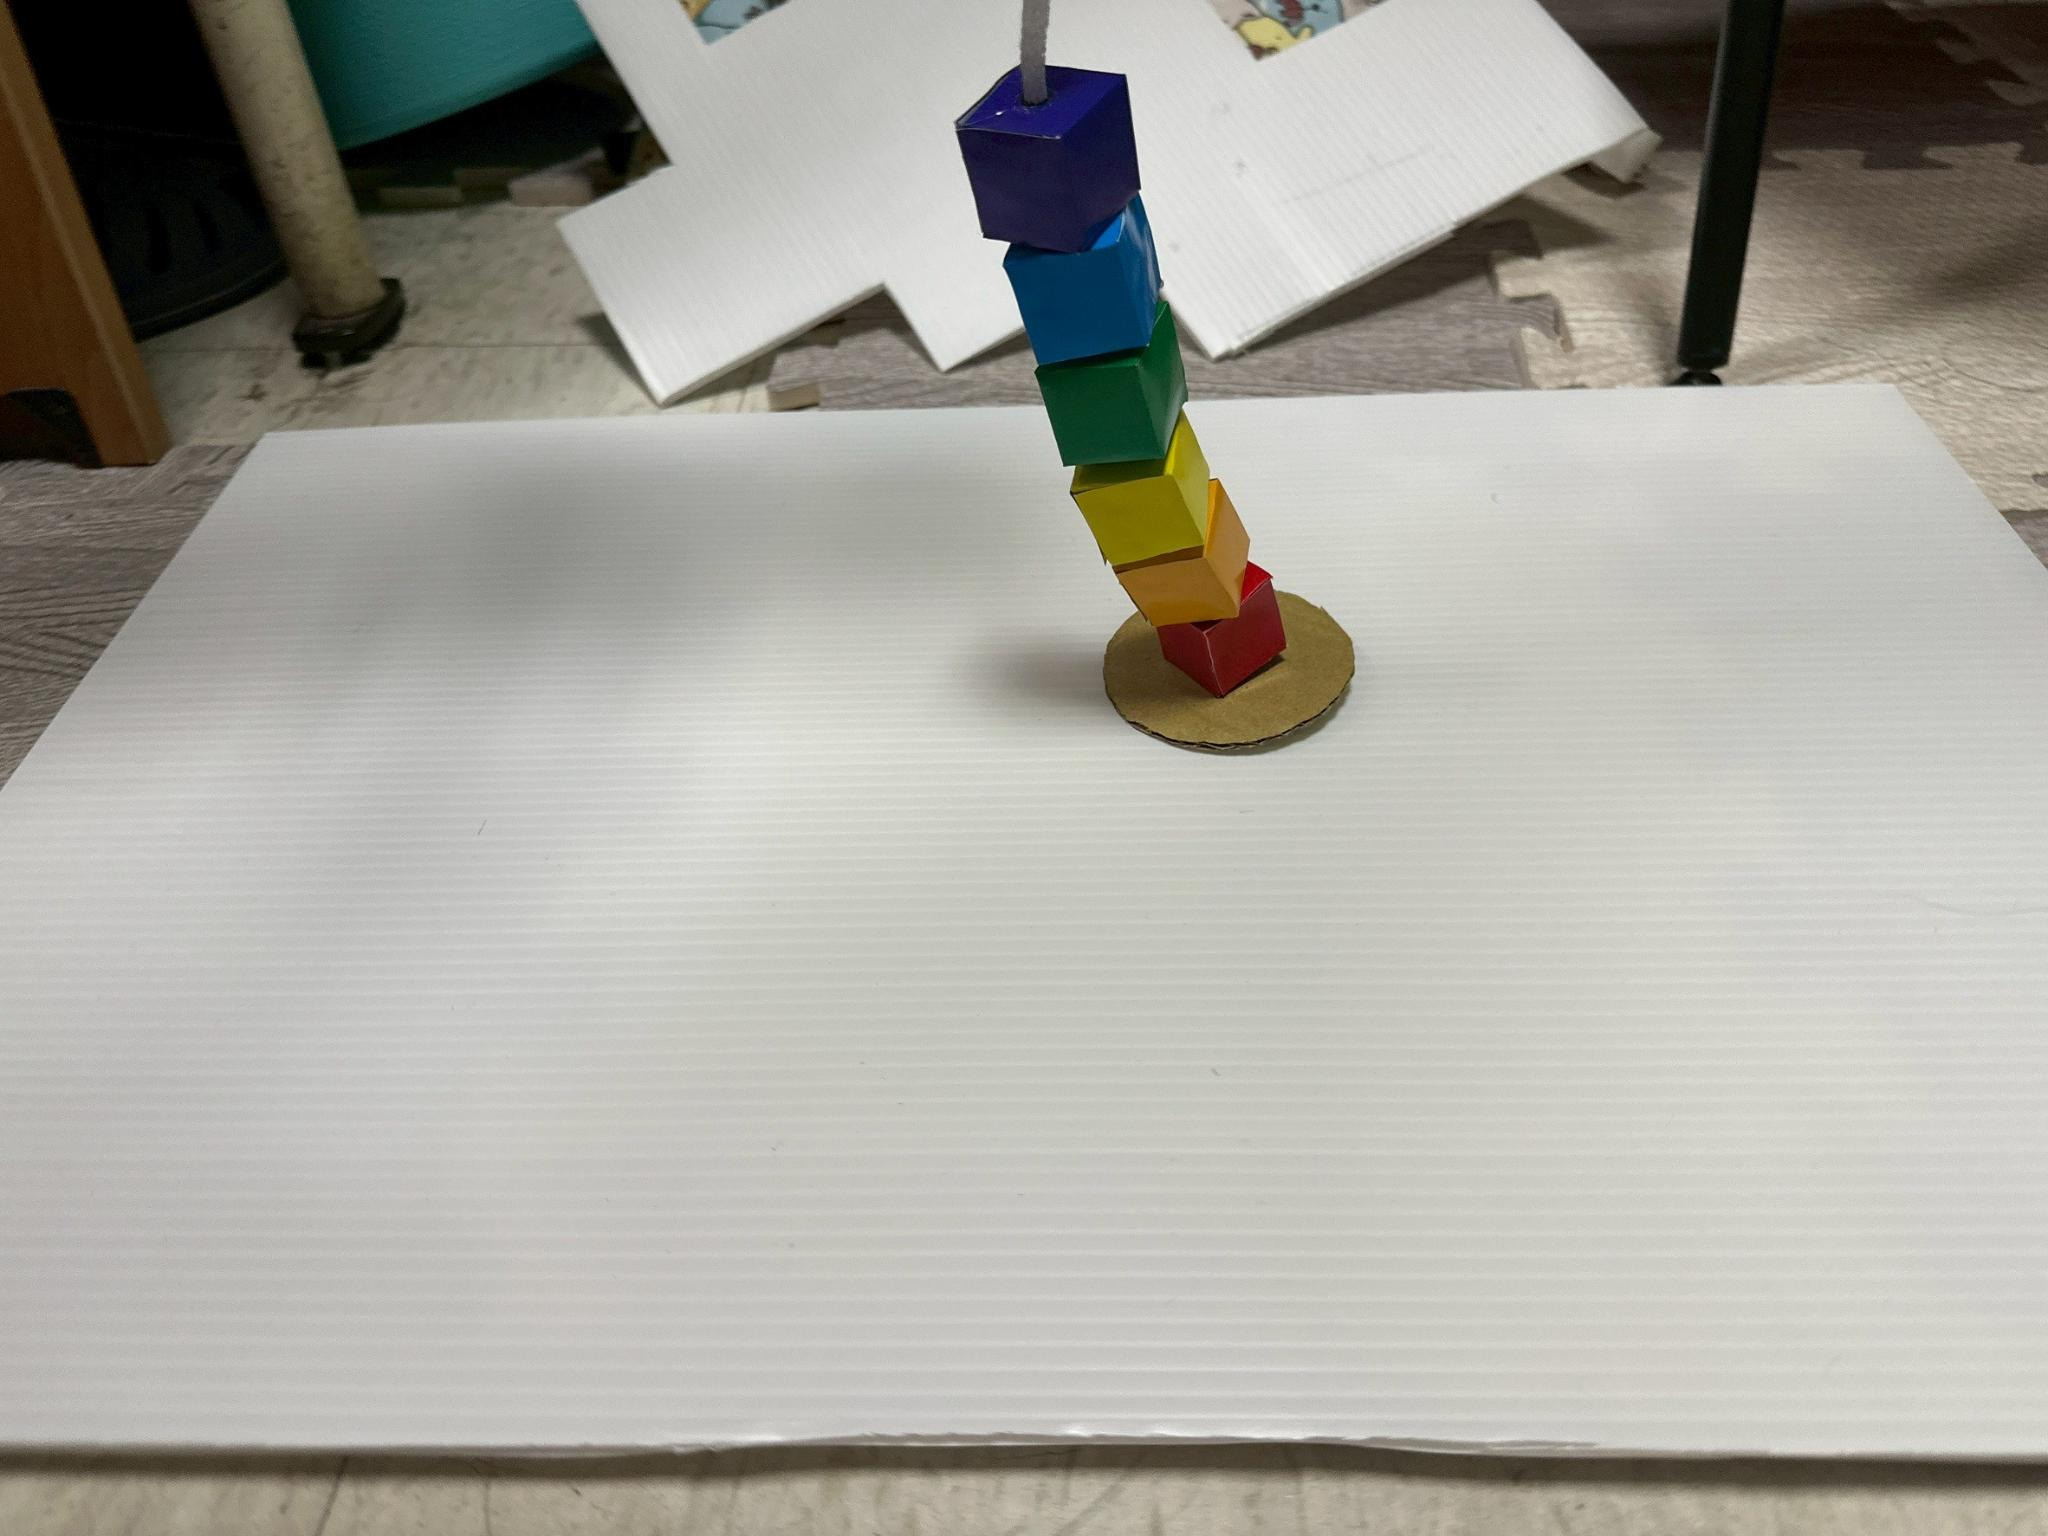base: (956, 68, 1138, 253), (1003, 197, 1159, 365), (1035, 300, 1188, 466), (1072, 413, 1208, 570), (1114, 482, 1248, 626), (1158, 565, 1287, 697)
